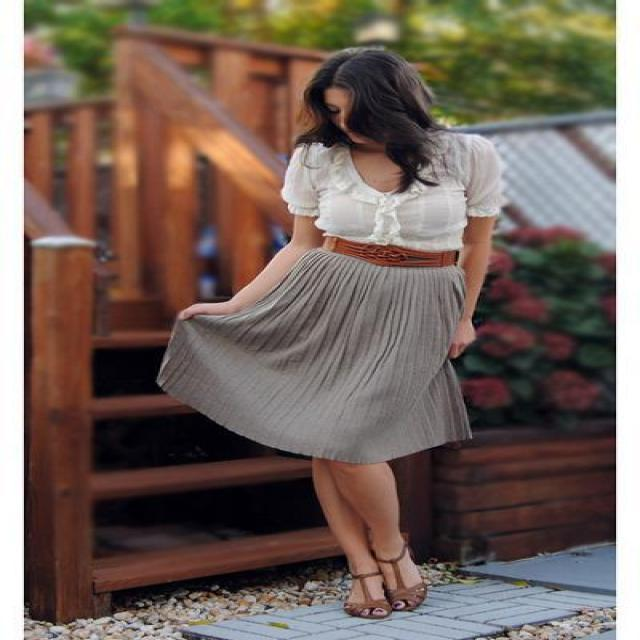shirt: (282, 117, 506, 254)
shoe: (342, 550, 436, 619)
skirt: (157, 251, 477, 465)
